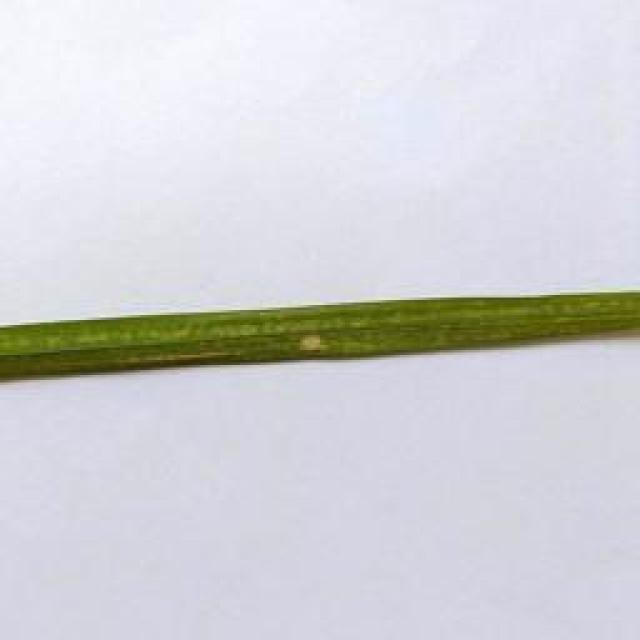Unhealthy: (295, 331, 324, 356)
